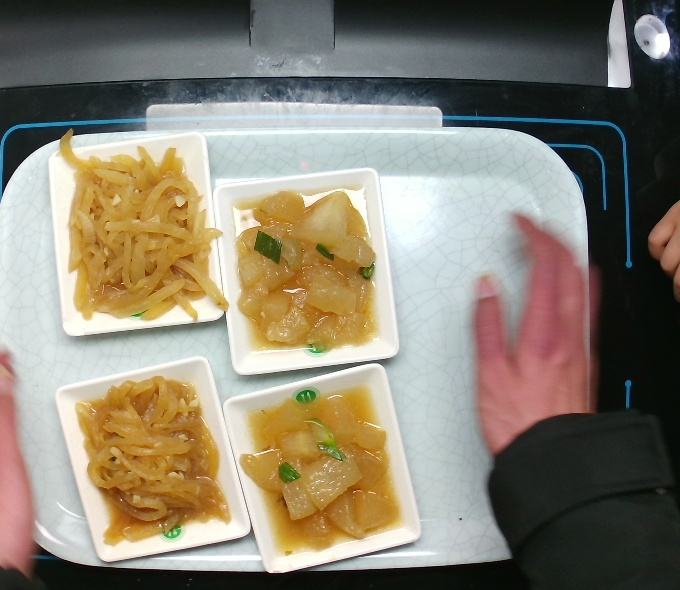wcq-DongGua: (234, 190, 378, 353), (249, 395, 393, 558)
wcq-LuoBoSi: (63, 152, 213, 318), (78, 376, 228, 542)
